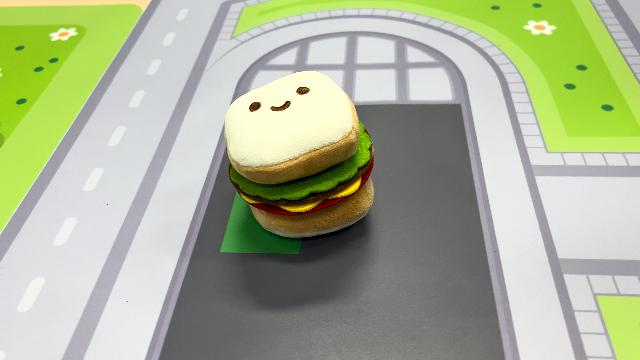sandwich: (222, 68, 378, 240)
